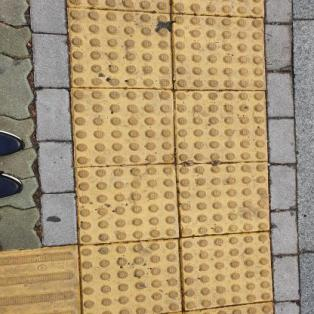Podoctatil: (60, 0, 284, 313), (0, 228, 279, 314)
